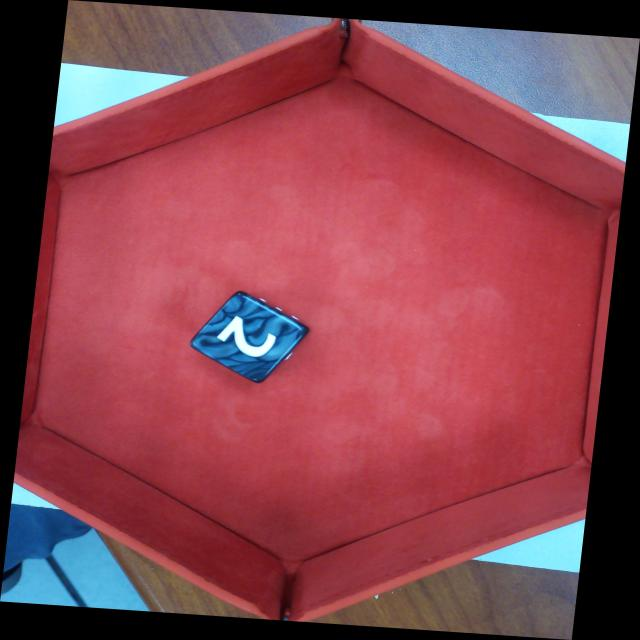dice: (189, 297, 305, 383)
